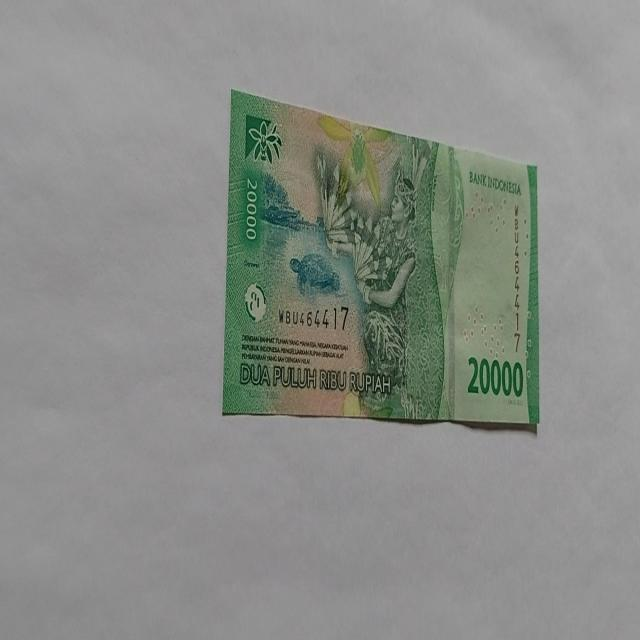dua puluh ribu rupiah: (222, 88, 540, 430)
